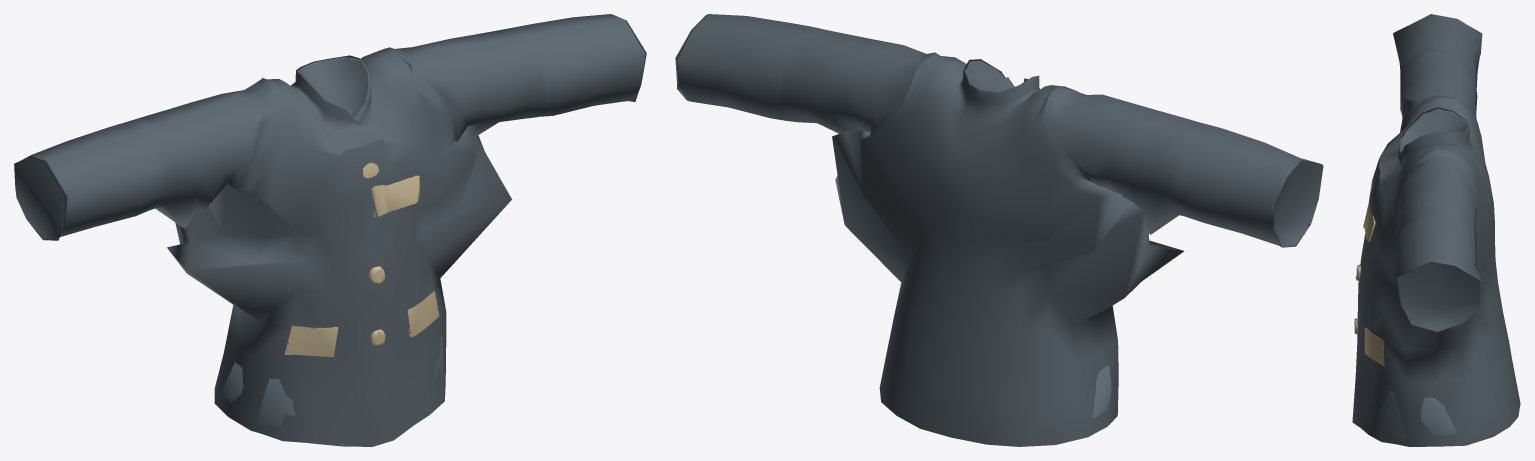
File: stand-collar-only.glb
The picture shows the model from 3 angles, left to right: view 1: azimuth 30°, elevation 25°; view 2: azimuth 150°, elevation 25°; view 3: azimuth 270°, elevation 25°; orthographic projection. The views are drawn at different scales.
Parts seen in each view (by area): view 1: Apparel_stand-collar_0, Apparel_stand-collar_1; view 2: Apparel_stand-collar_0; view 3: Apparel_stand-collar_0, Apparel_stand-collar_1.
Part boxes in pixels (<box>): Apparel_stand-collar_0: <box>14,14,646,446</box>; Apparel_stand-collar_1: <box>284,163,439,356</box>; Apparel_stand-collar_0: <box>675,14,1323,446</box>; Apparel_stand-collar_0: <box>1352,14,1520,446</box>; Apparel_stand-collar_1: <box>1354,180,1384,366</box>.
Size of the model in its own units: 2.74 by 1.53 by 0.7794.
